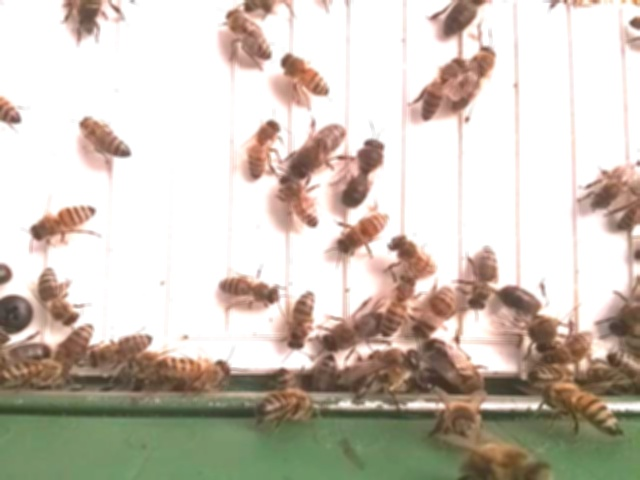Drone: (498, 282, 561, 355), (290, 119, 350, 179), (341, 136, 390, 208), (321, 307, 390, 352)
Worker: (418, 55, 469, 121), (450, 42, 497, 110), (222, 9, 277, 62), (378, 273, 418, 340), (33, 201, 99, 240), (280, 52, 334, 99), (464, 242, 500, 312), (78, 115, 134, 159), (37, 267, 80, 324), (247, 115, 284, 180), (416, 282, 457, 340), (594, 155, 640, 206), (389, 233, 440, 278), (53, 321, 98, 372), (281, 175, 322, 230), (91, 330, 155, 365), (340, 211, 391, 254), (285, 287, 318, 353), (218, 275, 283, 307)
